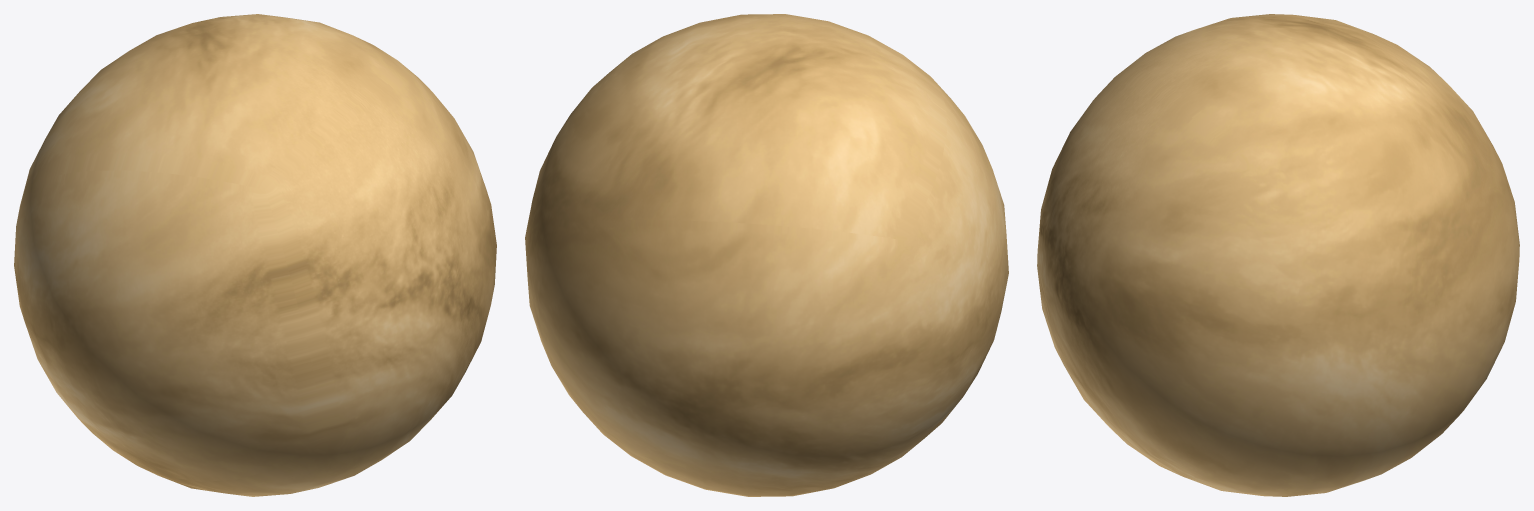
The model's file is Venus_1K.obj.
3 views of the same model, side by side, from view 1: azimuth 30°, elevation 25°; view 2: azimuth 150°, elevation 25°; view 3: azimuth 270°, elevation 25° (orthographic).
Visible parts, largest first — view 1: Venus; view 2: Venus; view 3: Venus.
Part boxes in pixels (left/top/right/bottom): Venus: left=14, top=14, right=496, bottom=496; Venus: left=525, top=14, right=1008, bottom=496; Venus: left=1037, top=14, right=1519, bottom=496.
Size of the model in its own units: 61112 by 61115 by 61020.
1 material, 1 textured.
